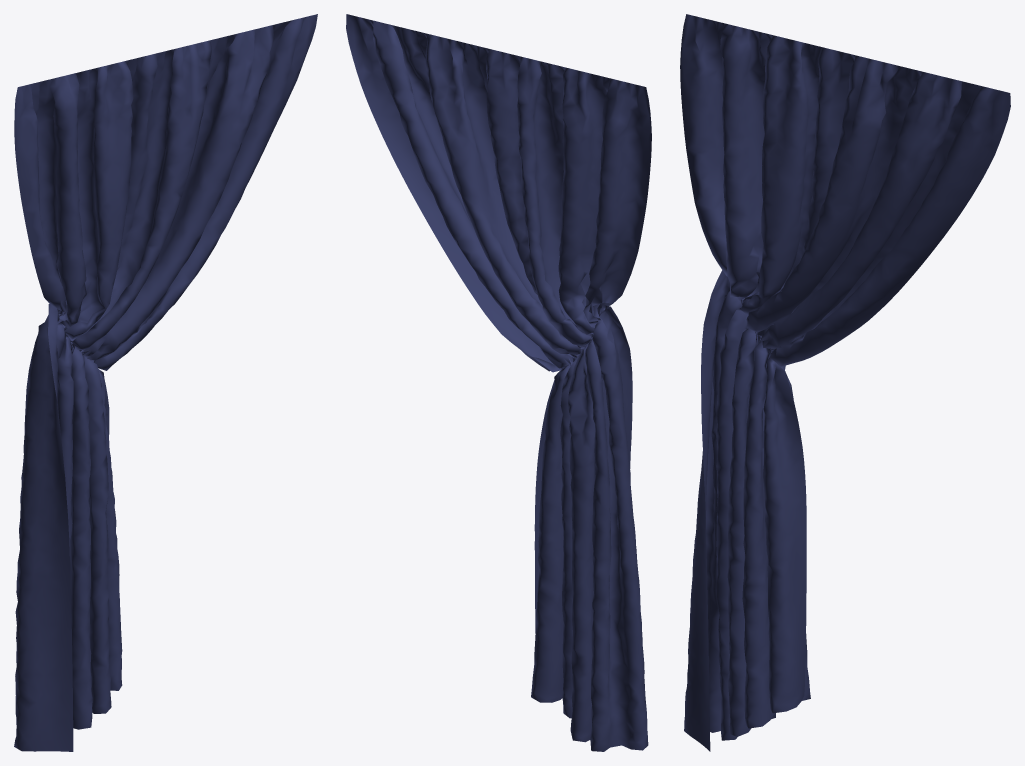
File: cortinaabierta.obj
3 views of the same model, side by side, from view 1: azimuth 30°, elevation 25°; view 2: azimuth 150°, elevation 25°; view 3: azimuth 330°, elevation 25° (orthographic). The views are drawn at different scales.
Bounding box in the file's own units: 1.34 × 2.79 × 0.2823.
